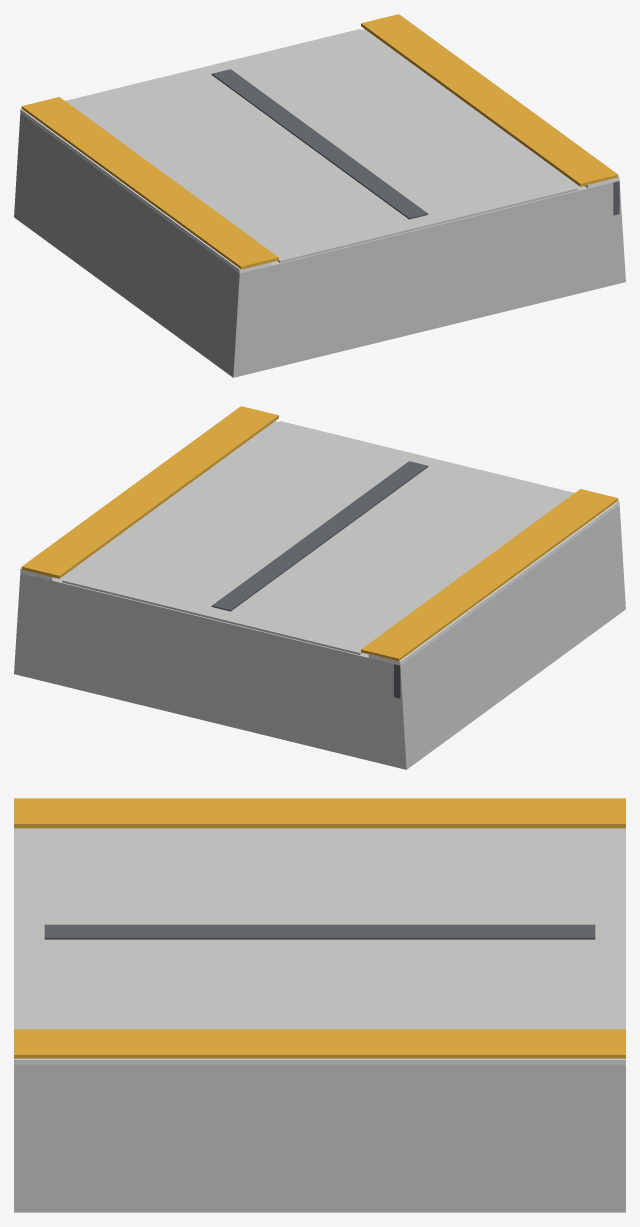
The model's file is platform-island.glb.
The picture shows the model from 3 angles, top to bottom: view 1: azimuth 30°, elevation 25°; view 2: azimuth 150°, elevation 25°; view 3: azimuth 270°, elevation 25°; orthographic projection. The views are drawn at different scales.
Visible parts, largest first — view 1: island-platform-module; view 2: island-platform-module; view 3: island-platform-module.
Boxes of the visible parts, x1,y1,x2,y2 form: island-platform-module: (14,14,625,377); island-platform-module: (14,406,625,769); island-platform-module: (14,798,625,1212).
Size of the model in its own units: 6.2 by 1.65 by 6.
